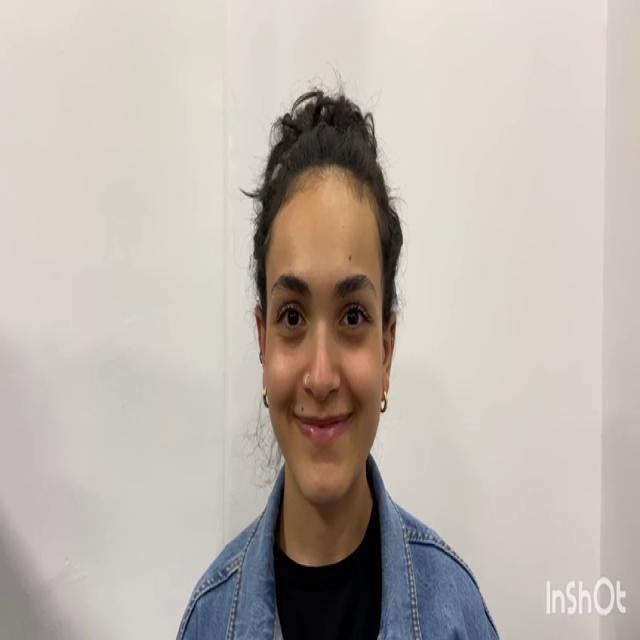happy: (268, 166, 388, 509)
